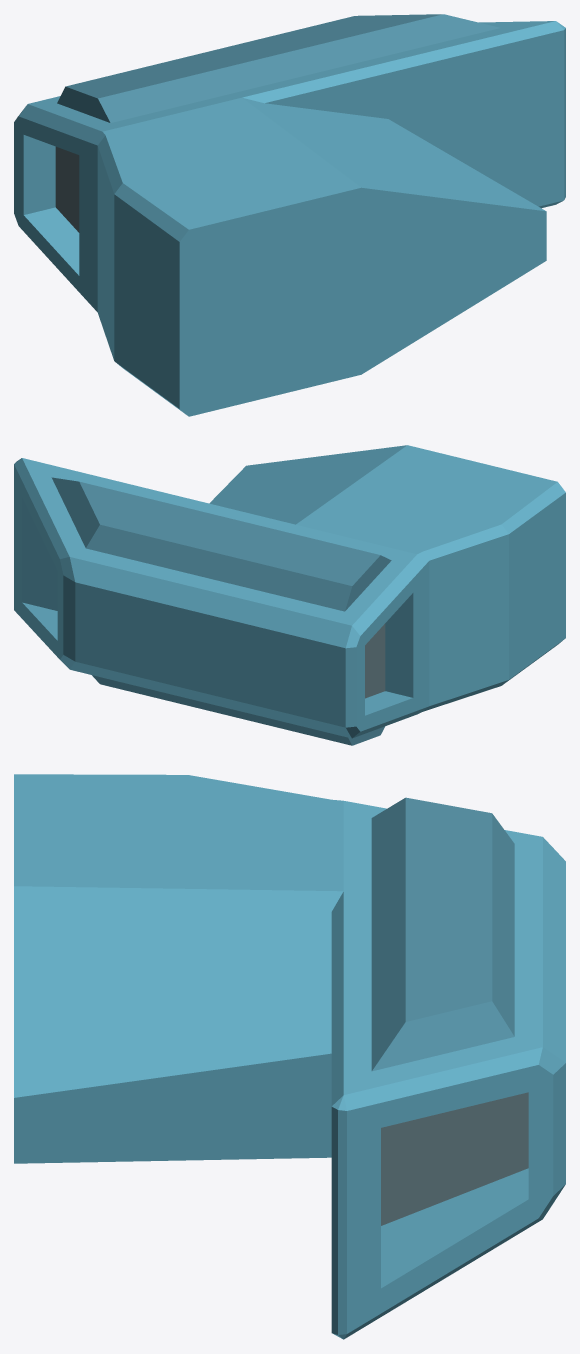
The model's file is spacestation_propulsion_hyperdrive_sidemount_small.glb.
3 views of the same model, one above another, from view 1: azimuth 30°, elevation 25°; view 2: azimuth 150°, elevation 25°; view 3: azimuth 270°, elevation 25° (orthographic). The views are drawn at different scales.
Bounding box in the file's own units: 1.36 × 0.5284 × 0.9609.
